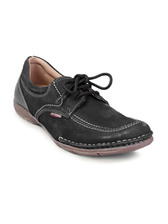shoes: (12, 48, 157, 160)
